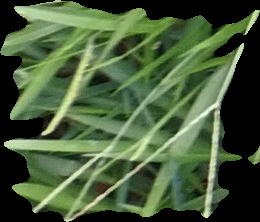grass: (1, 1, 259, 220)
